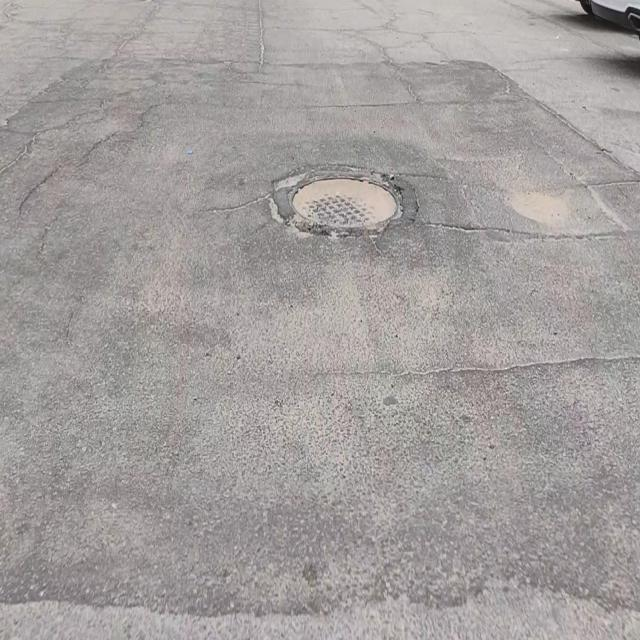Potholes: (285, 166, 405, 234)
